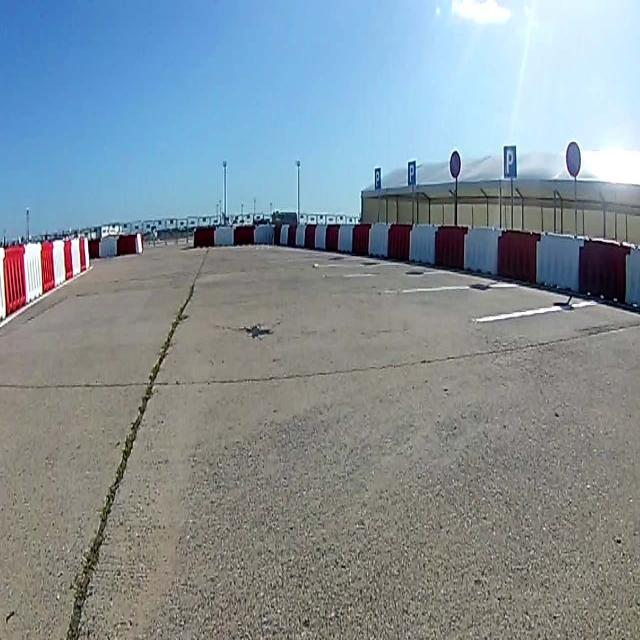park: (503, 146, 517, 180), (407, 162, 416, 185), (373, 167, 381, 190)
parkyasak: (565, 142, 582, 180), (448, 150, 462, 178)
